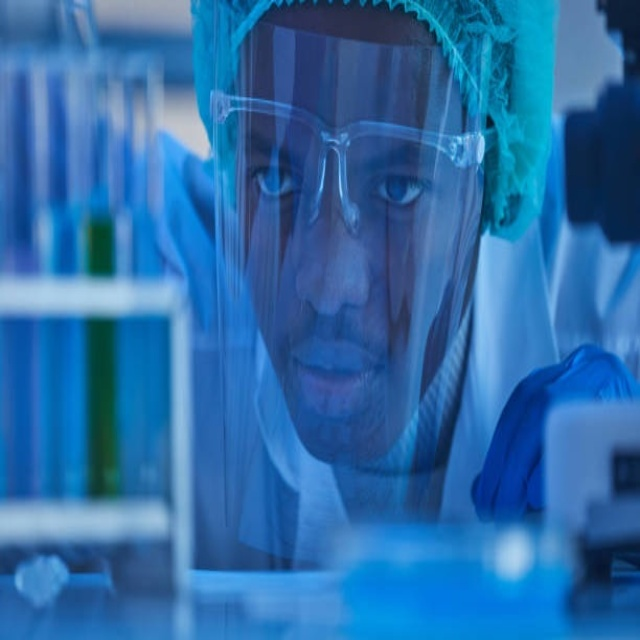Gafas: (211, 88, 483, 238)
Guantes: (469, 344, 640, 522)
Sin_mascara: (272, 306, 392, 458)
